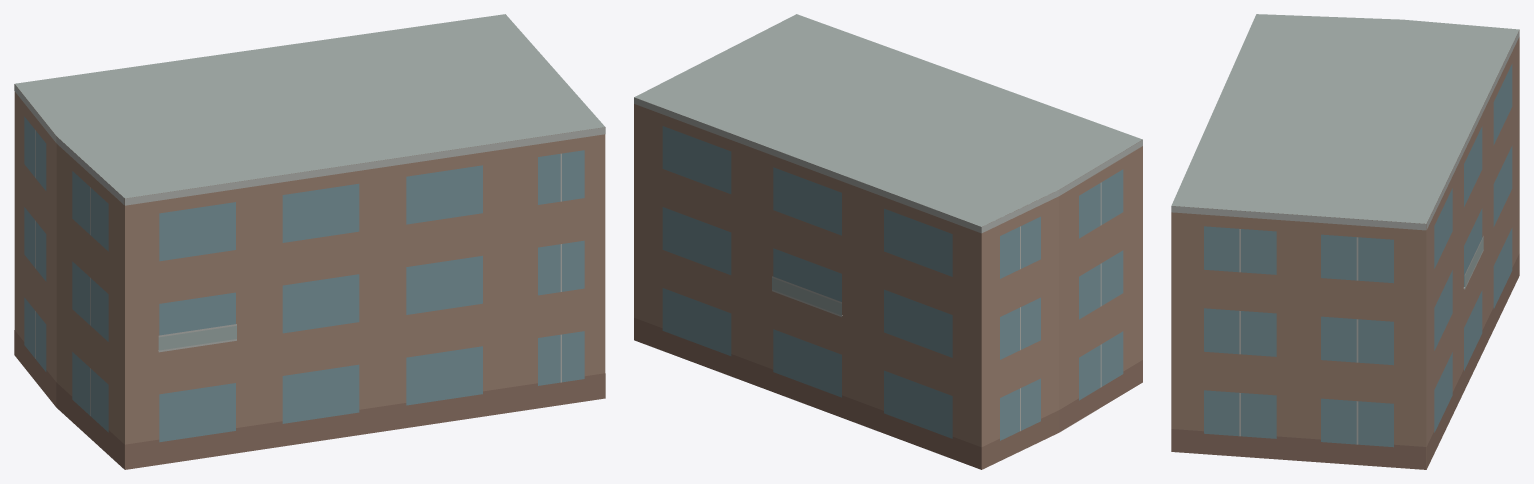
The model's file is survey-upis-32544060.glb.
The picture shows the model from 3 angles, left to right: view 1: azimuth 30°, elevation 25°; view 2: azimuth 150°, elevation 25°; view 3: azimuth 270°, elevation 25°; orthographic projection. The views are drawn at different scales.
Visible parts, largest first — view 1: survey-upis-32544060.tmp; view 2: survey-upis-32544060.tmp; view 3: survey-upis-32544060.tmp.
Part boxes in pixels (x1,y1,x2,y2): survey-upis-32544060.tmp: [14, 14, 605, 469]; survey-upis-32544060.tmp: [634, 14, 1142, 469]; survey-upis-32544060.tmp: [1171, 14, 1519, 469].
Bounding box in the file's own units: 16.75 × 9.15 × 11.75.
